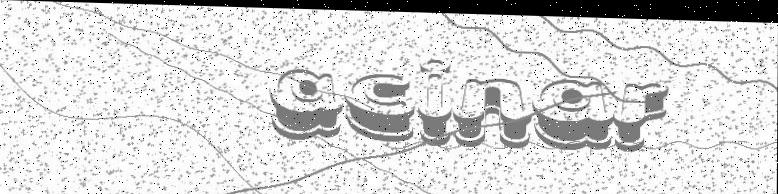a: (532, 74, 614, 149), (269, 66, 345, 140)
c: (344, 69, 417, 141)
i: (419, 53, 453, 145)
n: (452, 72, 534, 146)
r: (613, 77, 670, 150)
